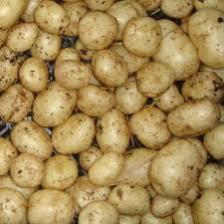Potato: (147, 131, 203, 200), (186, 7, 224, 70), (154, 28, 200, 80), (112, 146, 158, 189), (165, 100, 219, 136), (76, 9, 120, 52), (32, 80, 74, 125), (51, 112, 97, 153), (8, 120, 54, 160), (93, 107, 131, 155), (122, 15, 164, 58), (26, 187, 74, 224), (128, 104, 170, 146), (83, 149, 124, 188), (88, 48, 128, 87), (177, 72, 224, 105), (64, 172, 108, 206), (40, 153, 80, 190), (134, 60, 174, 96), (51, 56, 91, 90), (105, 2, 137, 44), (1, 81, 32, 124), (111, 183, 154, 214), (111, 76, 147, 113), (73, 85, 114, 116), (34, 0, 69, 35), (191, 188, 224, 224), (10, 148, 40, 186), (30, 26, 61, 61), (76, 199, 120, 223), (0, 185, 27, 224), (20, 55, 48, 92), (5, 21, 36, 52), (0, 46, 17, 92), (151, 191, 180, 215), (81, 146, 101, 168)
